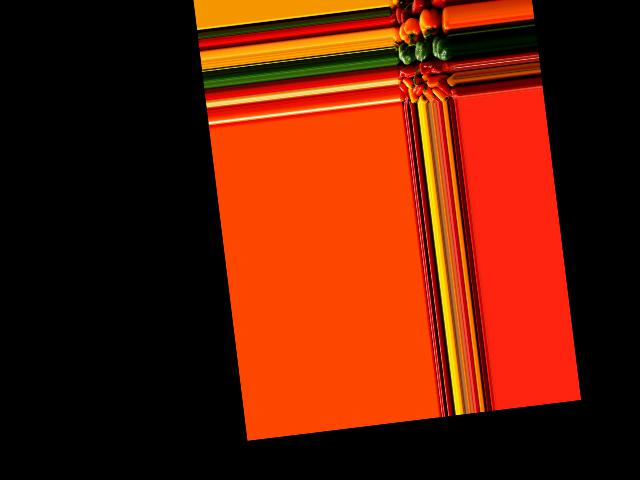bell_pepper: (436, 78, 453, 99)
